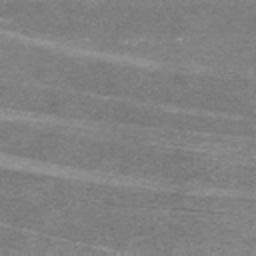Finishing roll printing: (0, 152, 256, 200), (0, 29, 232, 78), (32, 82, 253, 122), (0, 222, 122, 256), (0, 108, 112, 131)
